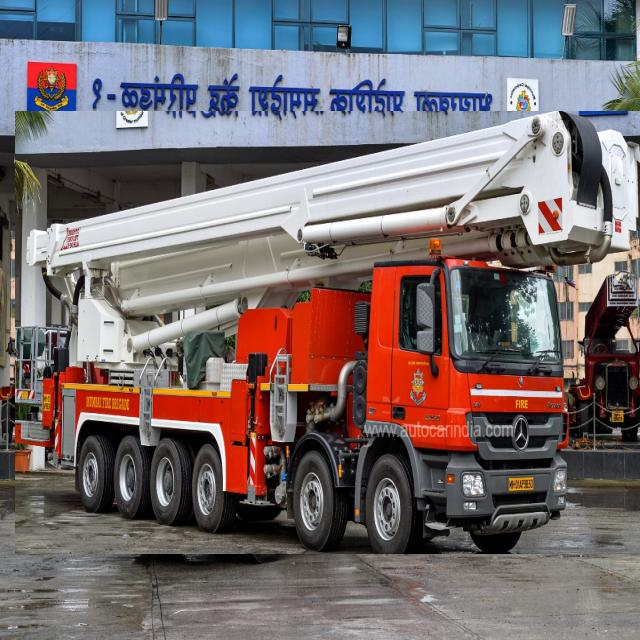emergency: (15, 111, 640, 554)
